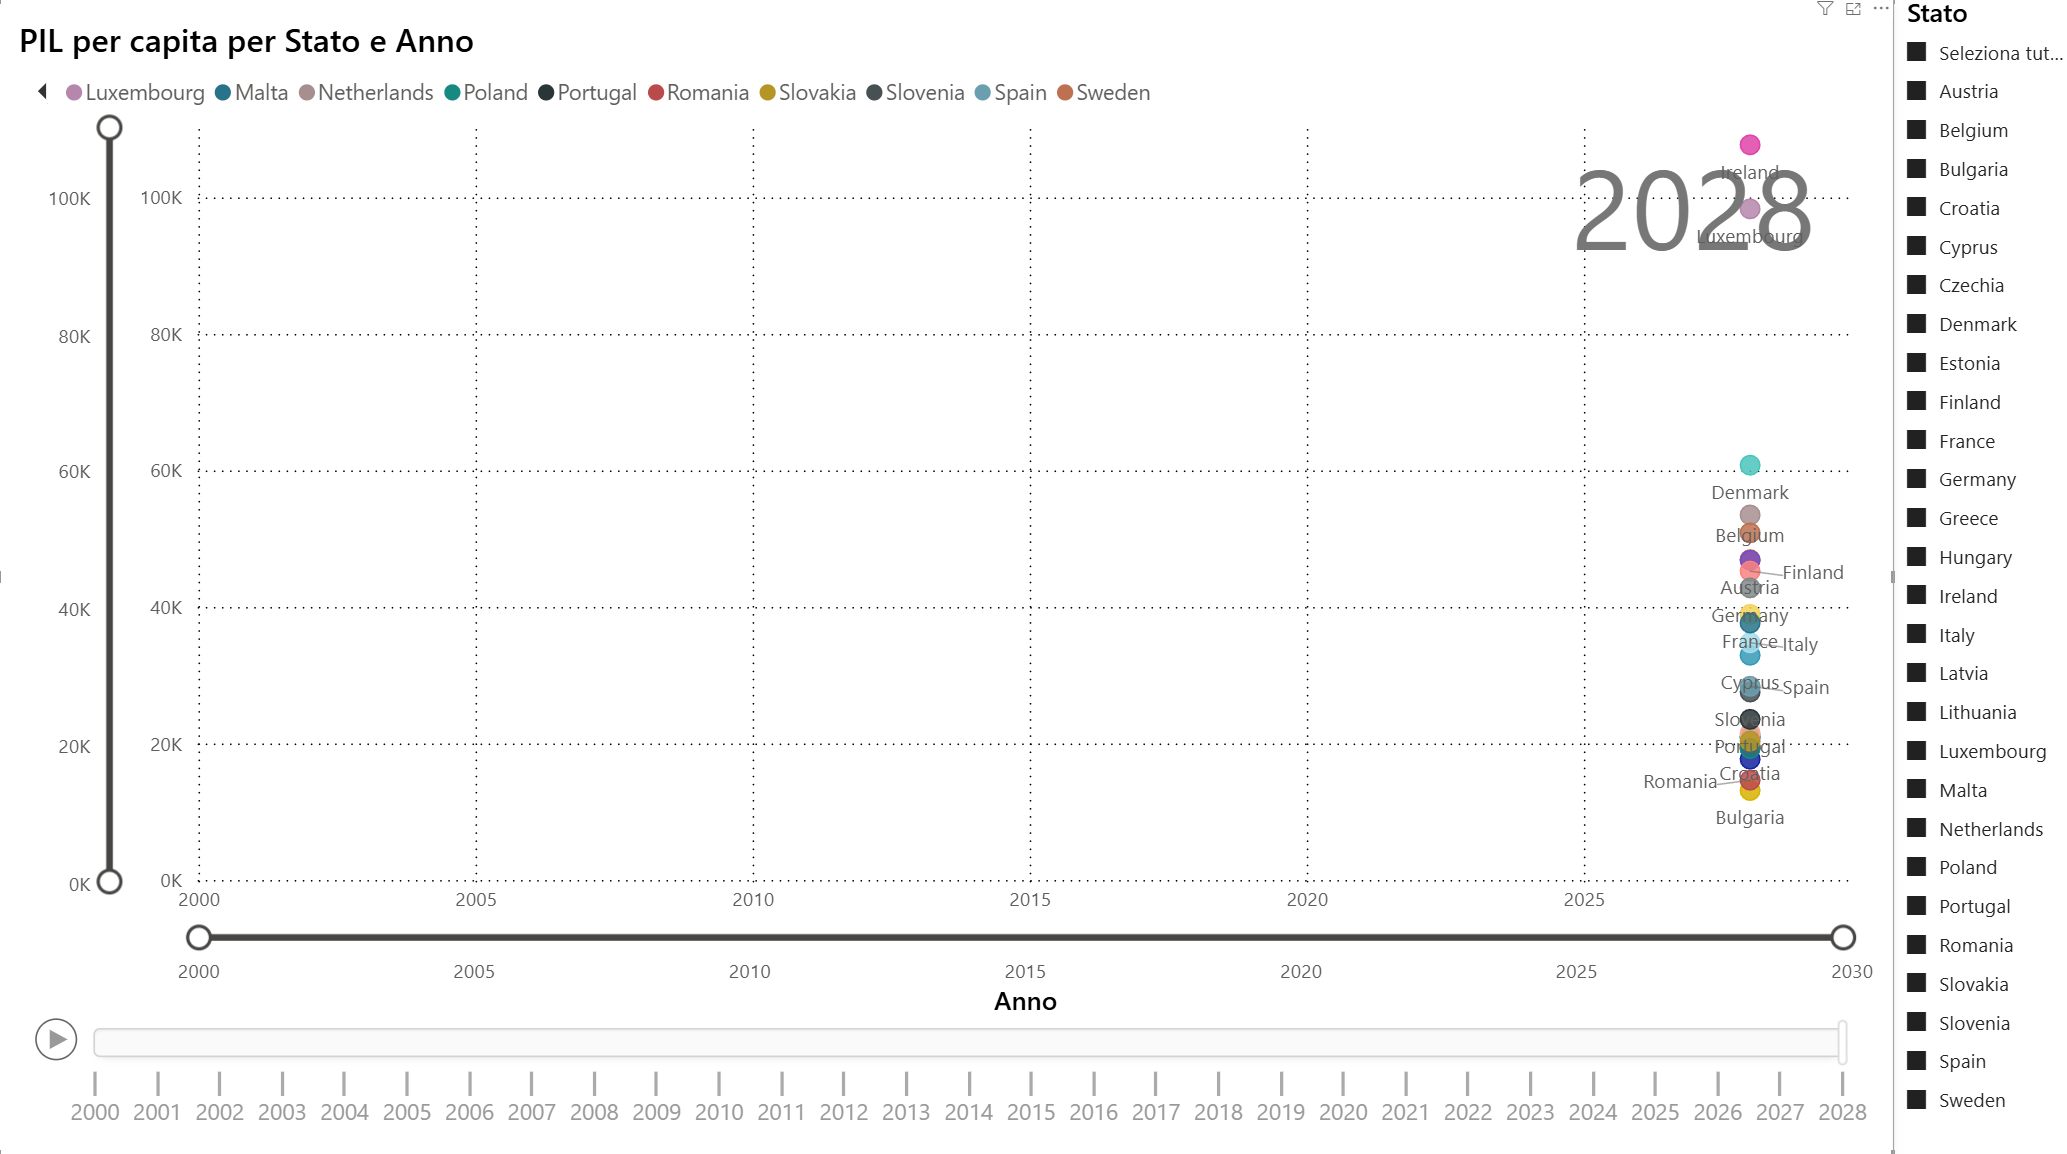

The dashboard page shown, as its layout file describes it:
{"tool":"powerbi","page":{"name":"Previsioni PIL per capita stato","canvas":[1280,720],"ordinal":10},"visuals":[{"type":"scatterChart","title":"PIL per capita per Stato e Anno","fields":{"X":["Sum(Europa_previsione_futuro_gdp_per_capita_singolo_paese.Anno)"],"Y":["Sum(Europa_previsione_futuro_gdp_per_capita_singolo_paese.gdp_per_capita)"],"Play":["Europa_previsione_futuro_gdp_per_capita_singolo_paese.Anno1"],"Series":["Europa_previsione_futuro_gdp_per_capita_singolo_paese.stato"]},"box":[0,0,1173,719.8],"z":0},{"type":"slicer","fields":{"Values":["Europa_previsione_futuro_gdp_per_capita_singolo_paese.stato"]},"box":[1173,0,107,719.8],"z":1000}]}

Visuals, with their boxes on the page's 1280x720 design canvas (x1, y1, x2, y2). These are canvas units, not pixel positions in the 2067x1154 screenshot, which may show the page scaled, cropped or inside an application window:
"PIL per capita per Stato e Anno" scatterChart: l=0, t=0, r=1173, b=720
slicer - Europa_previsione_futuro_gdp_per_capita_singolo_paese.stato: l=1173, t=0, r=1280, b=720
